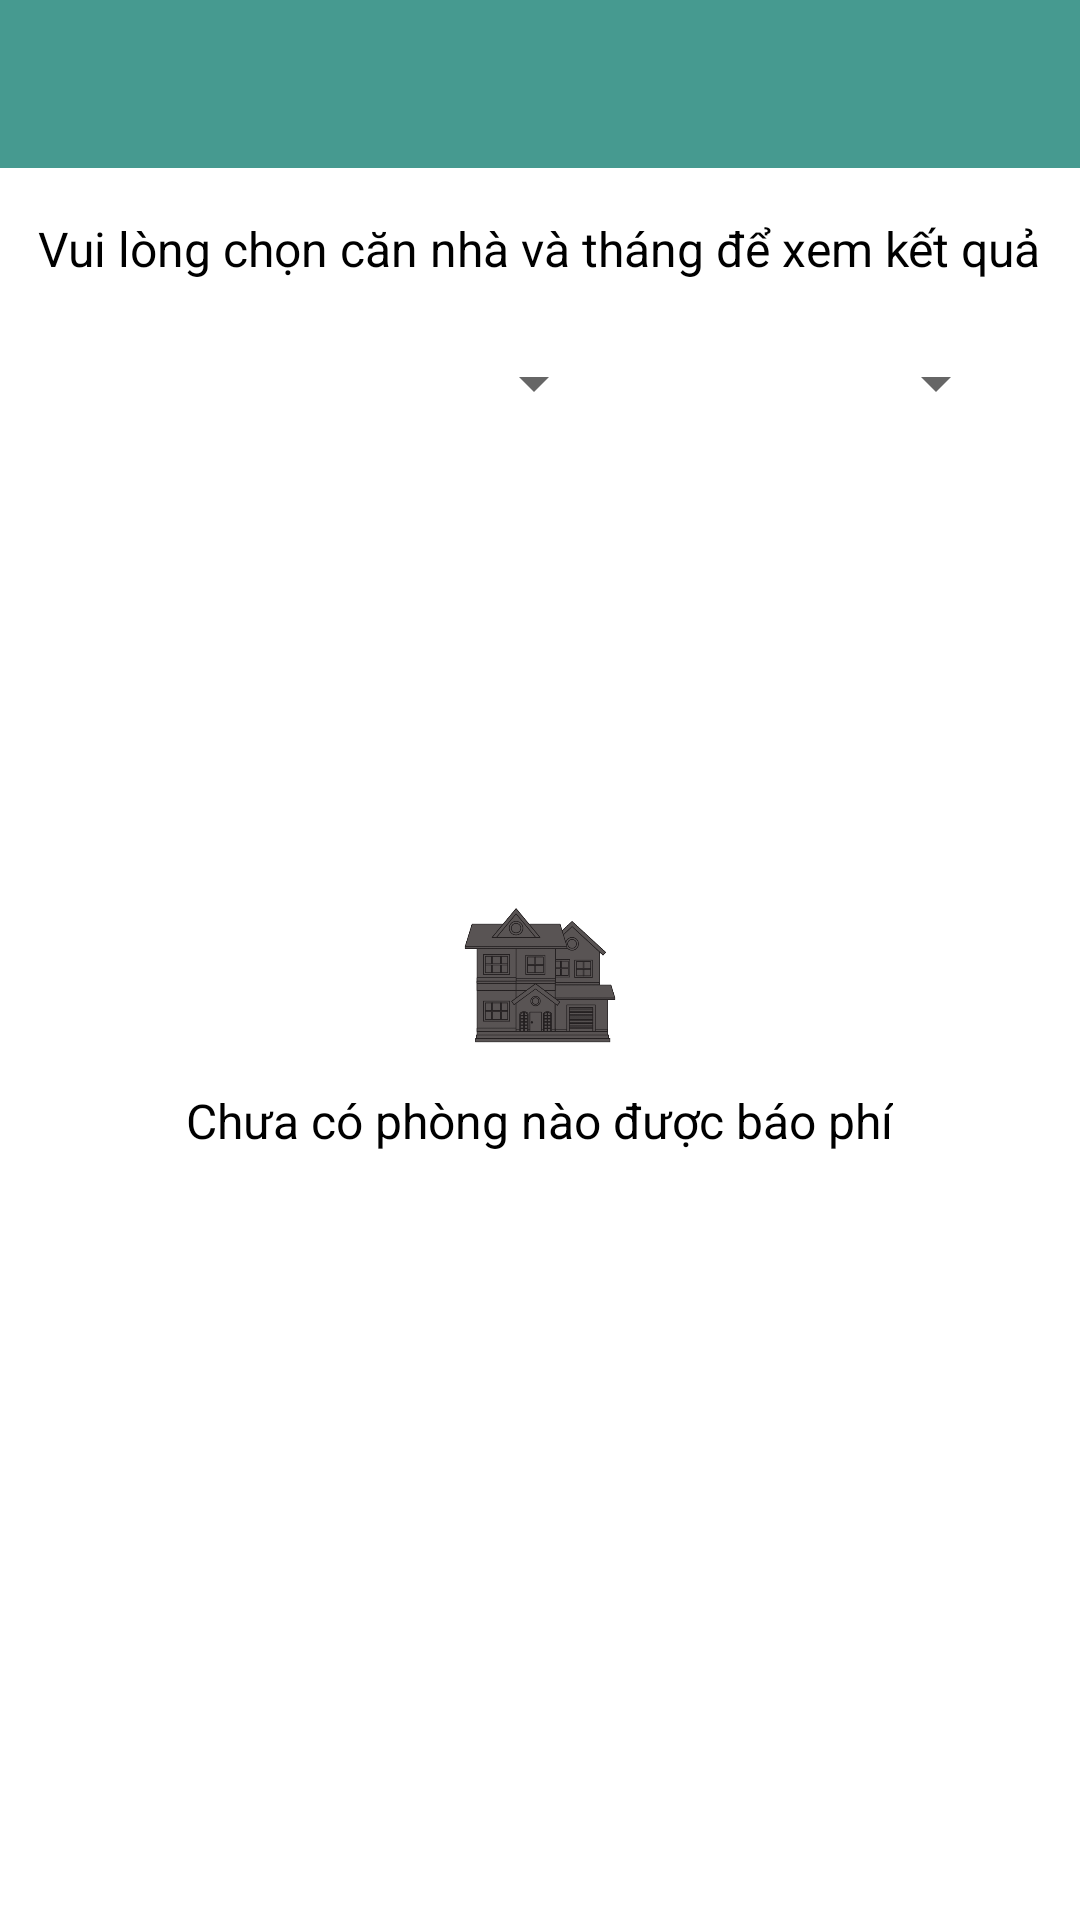

Locate icon controls on the screen. Image size 1080 x 1920, boxes as (x1=x1, y1=y1, x2=x2, y2=y2).
house: (x1=465, y1=908, x2=616, y2=1043)
